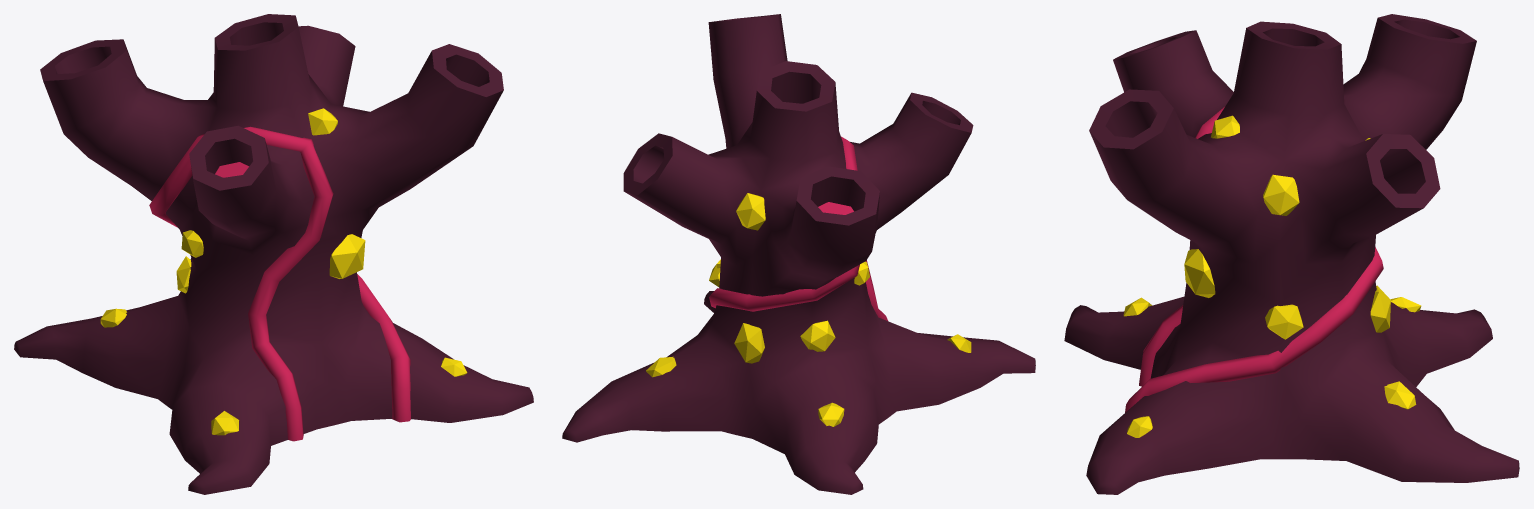
The model's file is Plant_8_purple.fbx.
3 views of the same model, side by side, from view 1: azimuth 30°, elevation 25°; view 2: azimuth 150°, elevation 25°; view 3: azimuth 270°, elevation 25° (orthographic). The views are drawn at different scales.
Visible parts, largest first — view 1: Plant_8_purple; view 2: Plant_8_purple; view 3: Plant_8_purple.
Part boxes in pixels (left/top/right/bottom): Plant_8_purple: left=14, top=14, right=533, bottom=494; Plant_8_purple: left=562, top=14, right=1035, bottom=494; Plant_8_purple: left=1064, top=14, right=1519, bottom=494.
Size of the model in its own units: 2.76 by 2.68 by 2.95.
